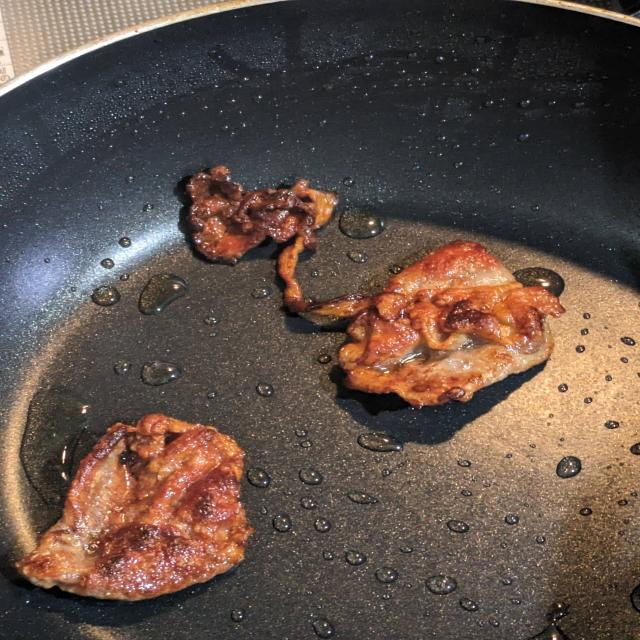overcooked pork: (164, 159, 569, 418), (3, 407, 264, 608)
